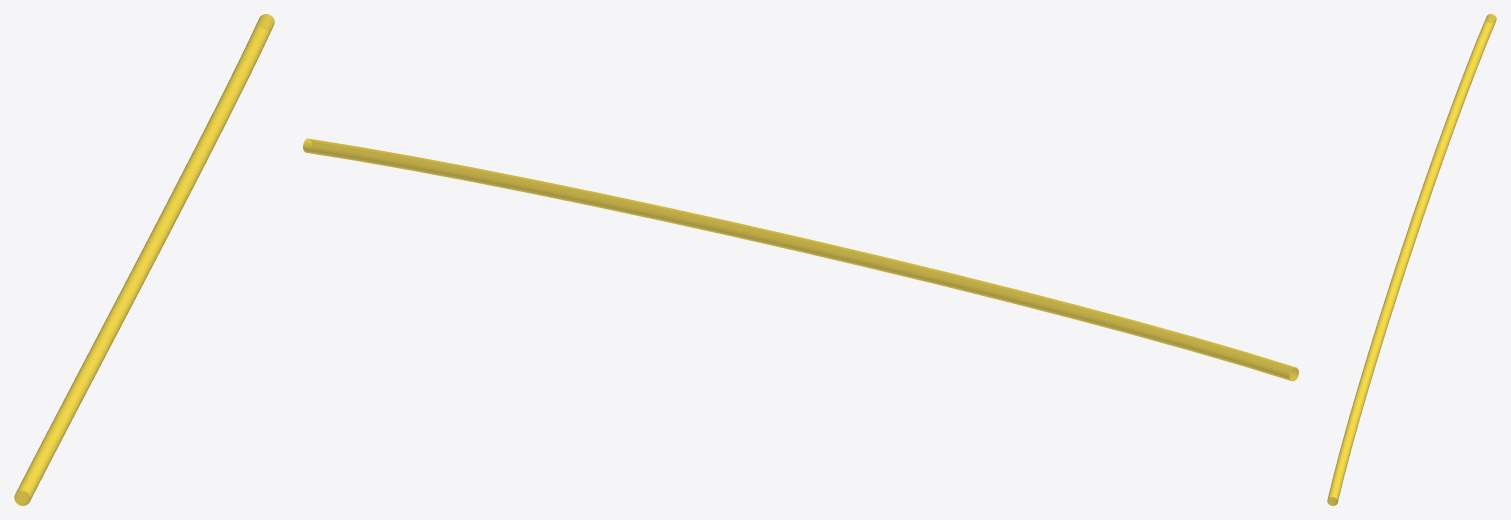
The model's file is Event_17758602_track_168.fbx.
The picture shows the model from 3 angles, left to right: view 1: azimuth 90°, elevation 25°; view 2: azimuth 150°, elevation 25°; view 3: azimuth 270°, elevation 25°; orthographic projection. The views are drawn at different scales.
Visible parts, largest first — view 1: Model; view 2: Model; view 3: Model.
Boxes of the visible parts, <box> form: Model: <box>14,14,274,505</box>; Model: <box>303,138,1298,381</box>; Model: <box>1327,14,1496,505</box>.
Size of the model in its own units: 3.49 by 0.3942 by 0.6295.
